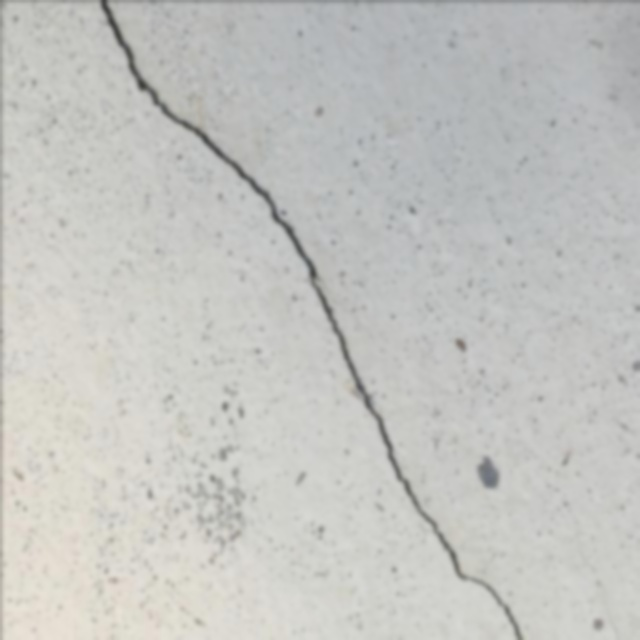SurfaceCrack: (66, 0, 575, 639)
